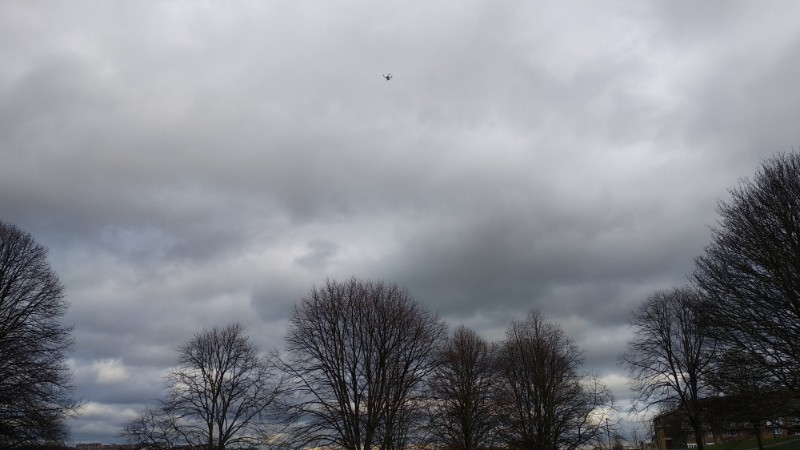drone: (382, 72, 393, 82)
